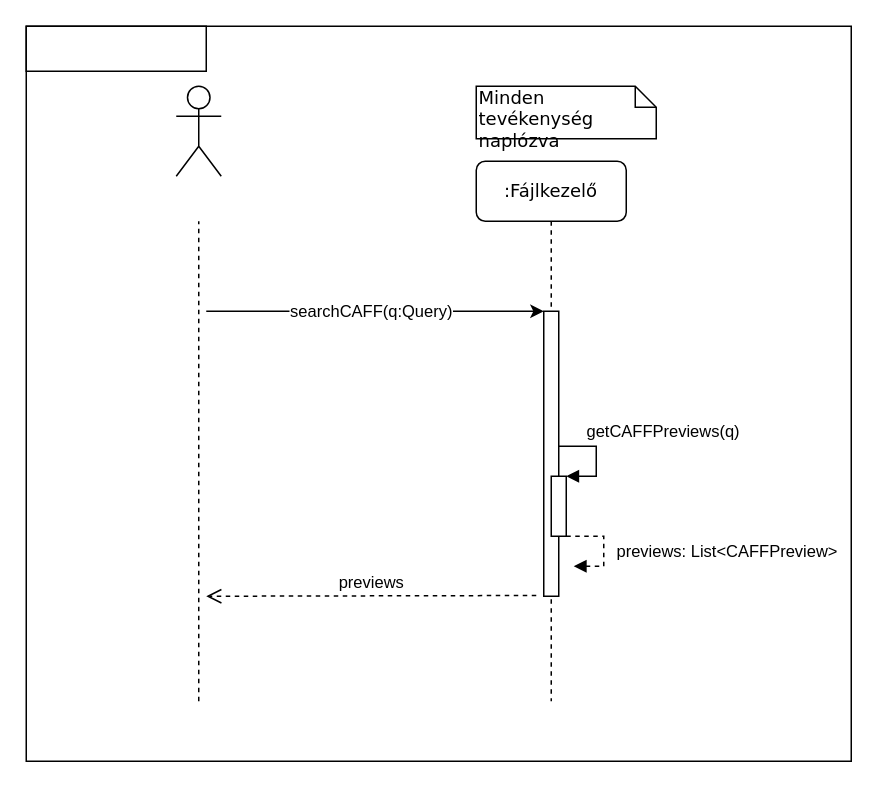
The diagram is 878 pixels wide and 788 high, and some of its shapes have lost their labels. Each missing label, with the box of its shape:
searchCAFF: (25, 25, 206, 71)
u:User: (175, 85, 221, 176)
